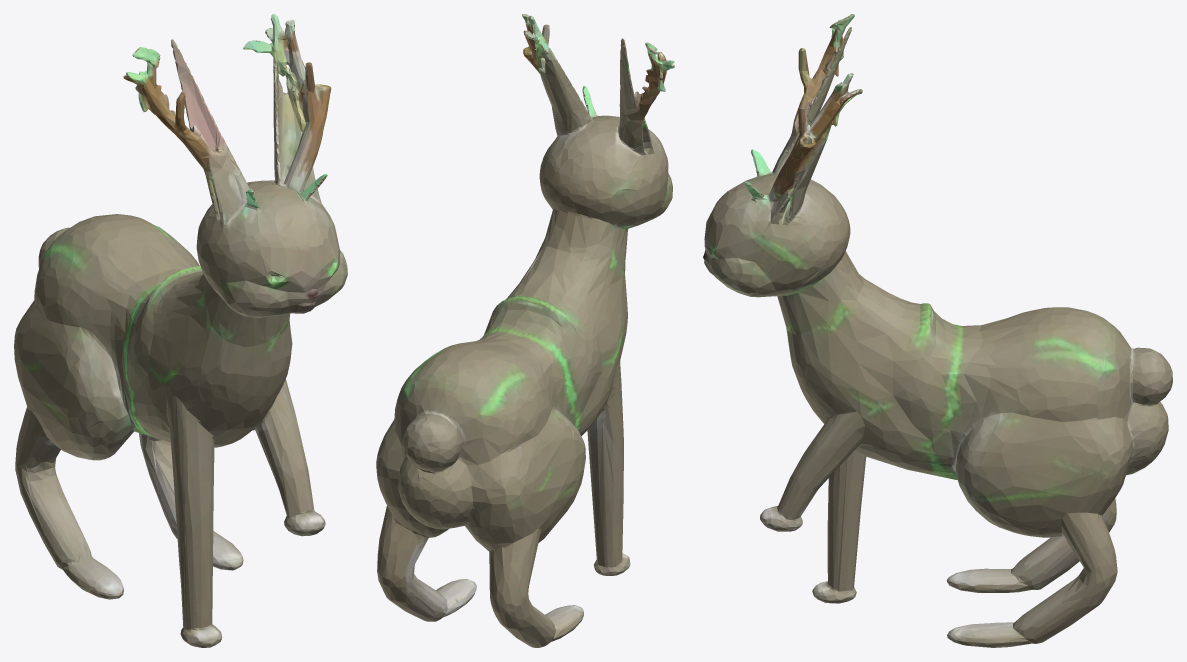
File: creature-011.lod.glb
3 views of the same model, side by side, from view 1: azimuth 30°, elevation 25°; view 2: azimuth 150°, elevation 25°; view 3: azimuth 270°, elevation 25° (orthographic). The views are drawn at different scales.
Visible parts, largest first — view 1: tmprr92trcw.ply; view 2: tmprr92trcw.ply; view 3: tmprr92trcw.ply.
Boxes of the visible parts, box(x1,y1,x2,y2) form: tmprr92trcw.ply: box(14, 14, 347, 647); tmprr92trcw.ply: box(376, 14, 674, 647); tmprr92trcw.ply: box(703, 14, 1172, 647).
Bounding box in the file's own units: 0.6889 × 1.99 × 1.5.
Materials: 1 (1 with a texture image).
